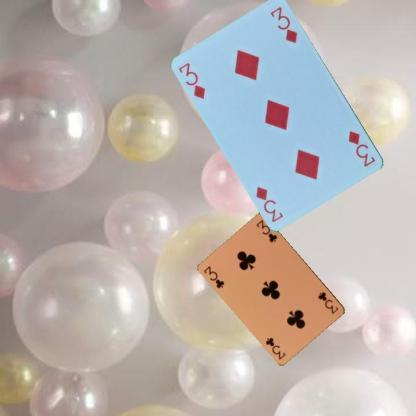3c: (315, 289, 340, 315), (201, 264, 226, 290)
3d: (176, 61, 207, 100), (346, 128, 376, 168)
